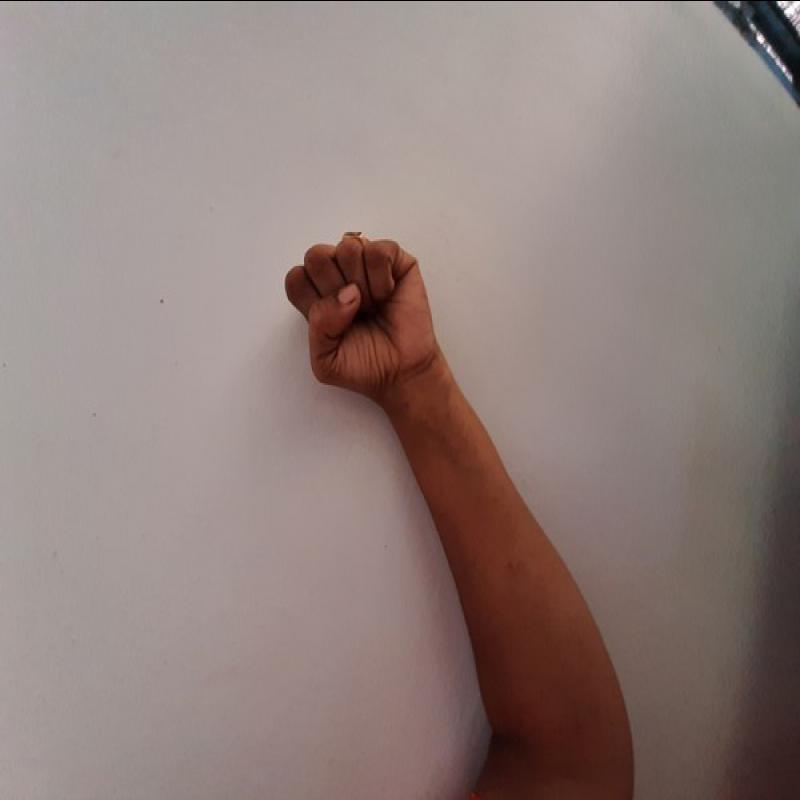Mushti: (279, 218, 445, 398)
